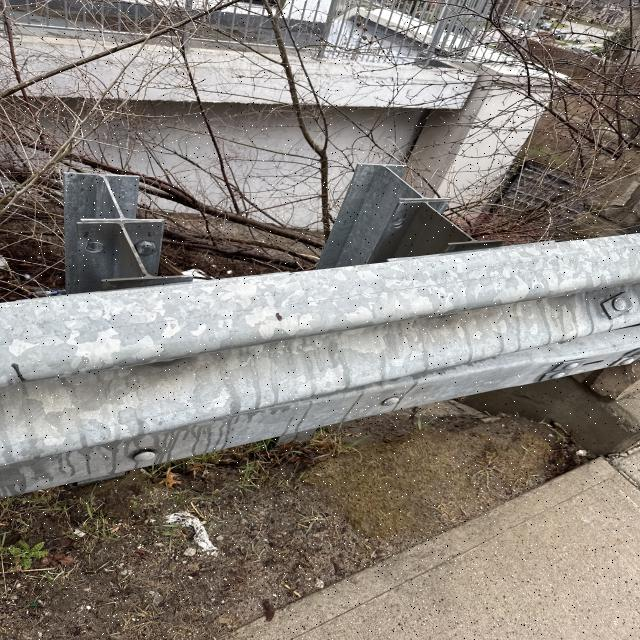Guard rail: (25, 242, 640, 409)
